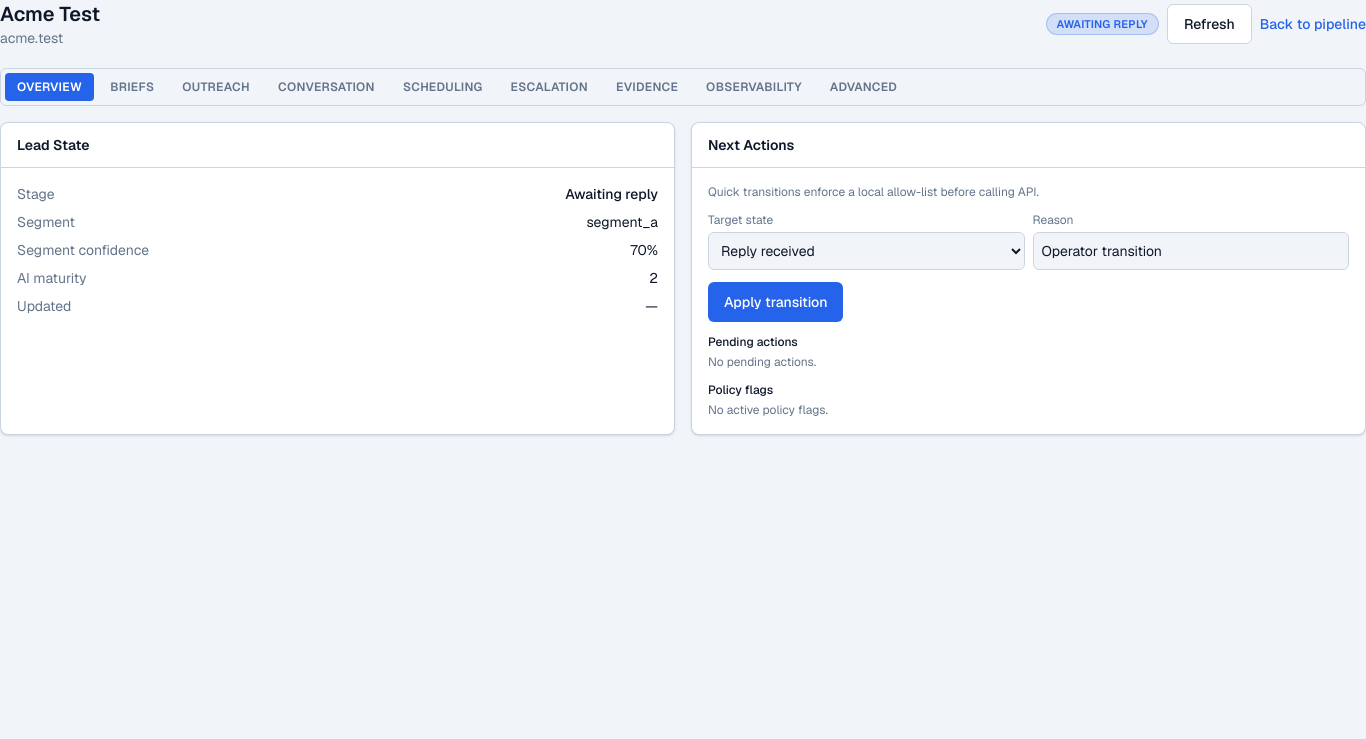
Test: LeadDetail › sends selected booking date and time from pickers
The width and height of the screenshot is (1366, 739).
Expected: the heading "Acme Test" is shown, [0,0,100,28]
Click the tab "Conversation" at (326,87), box [266,73,387,101]
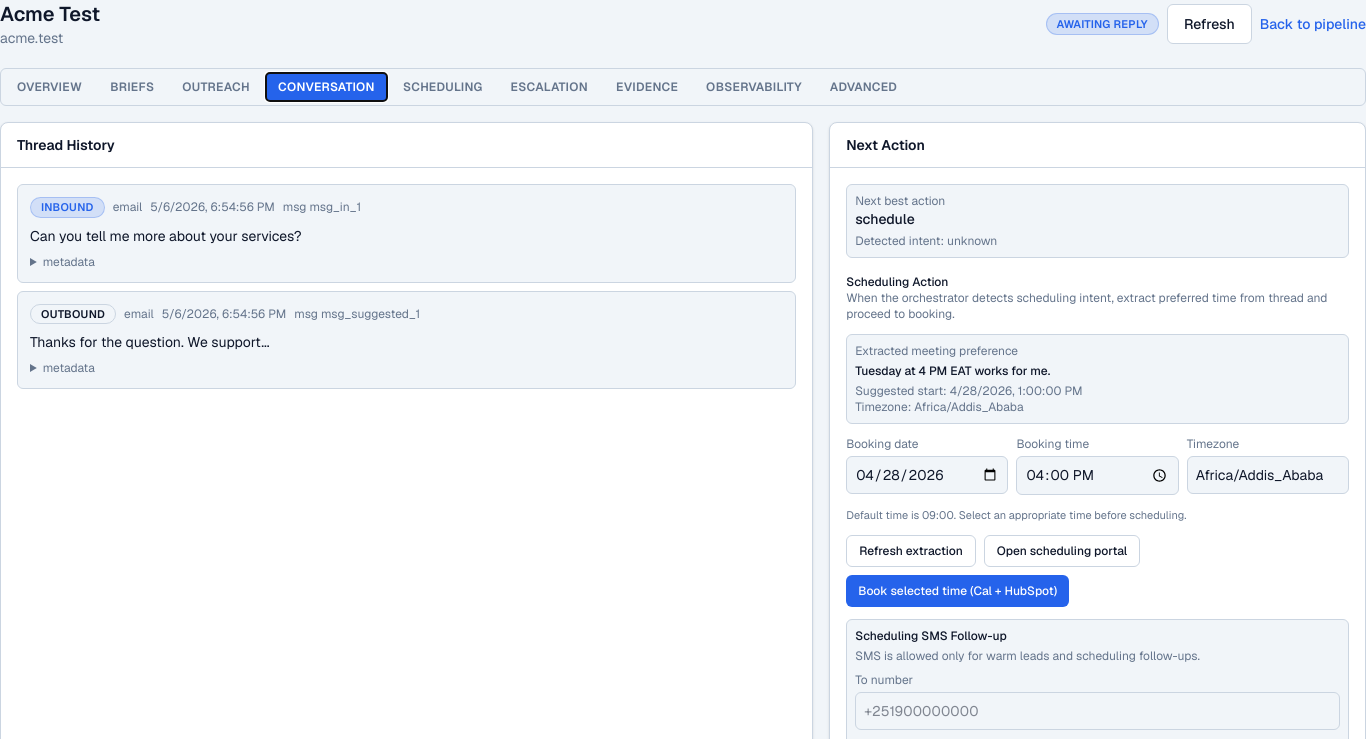
Type "2026-04-30" into the date field labelled "Booking date" at (927,475), box [846,456,1008,494]
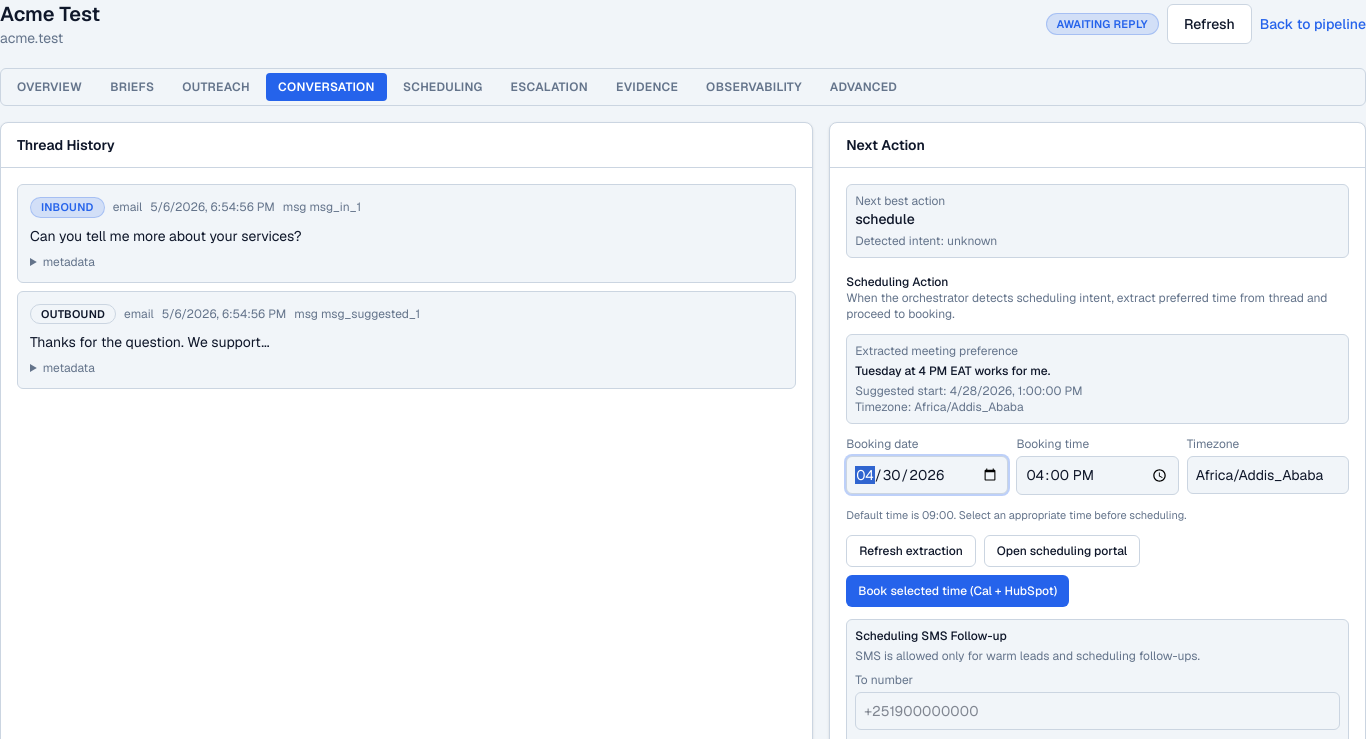
Replace the text in the time field labelled "Booking time" with "09:30" at (1098,475), box [1016,456,1179,495]
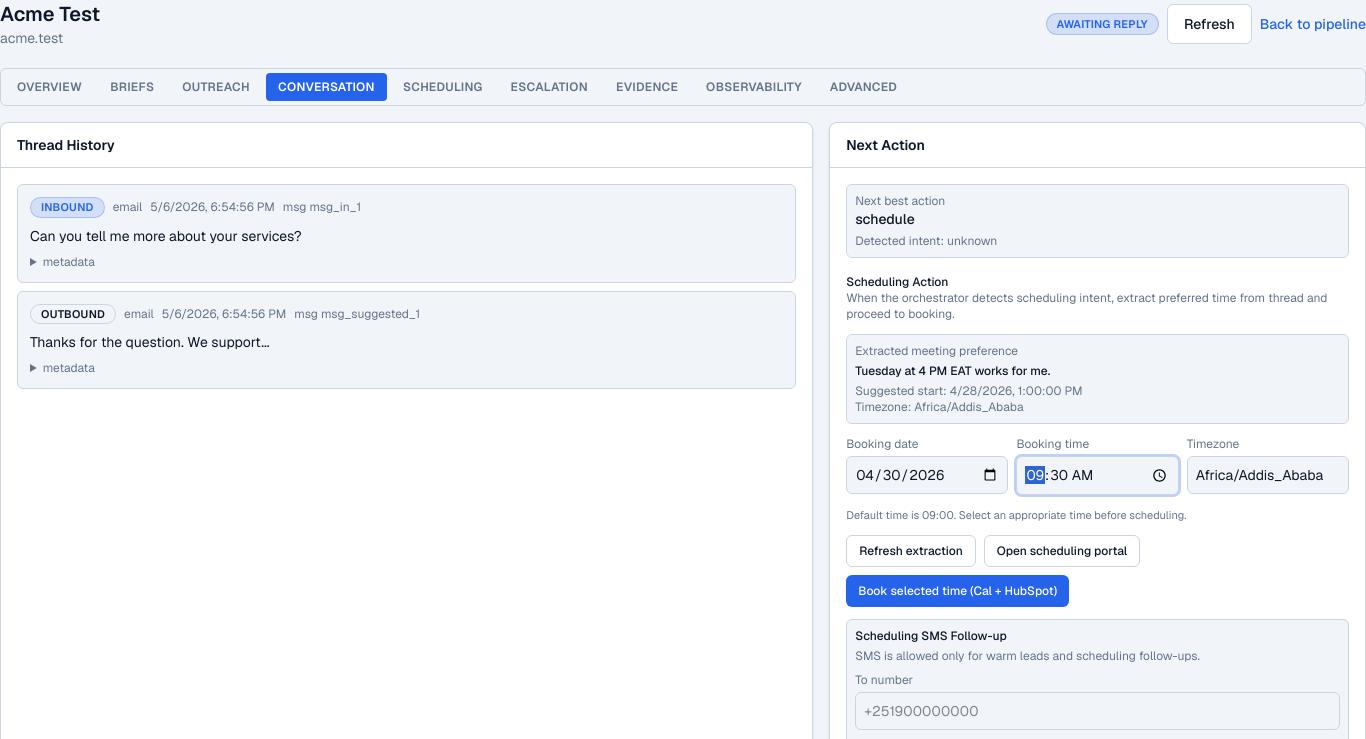
Click the button "Book selected time (Cal + HubSpot)" at (958,591), box [846,575,1069,607]
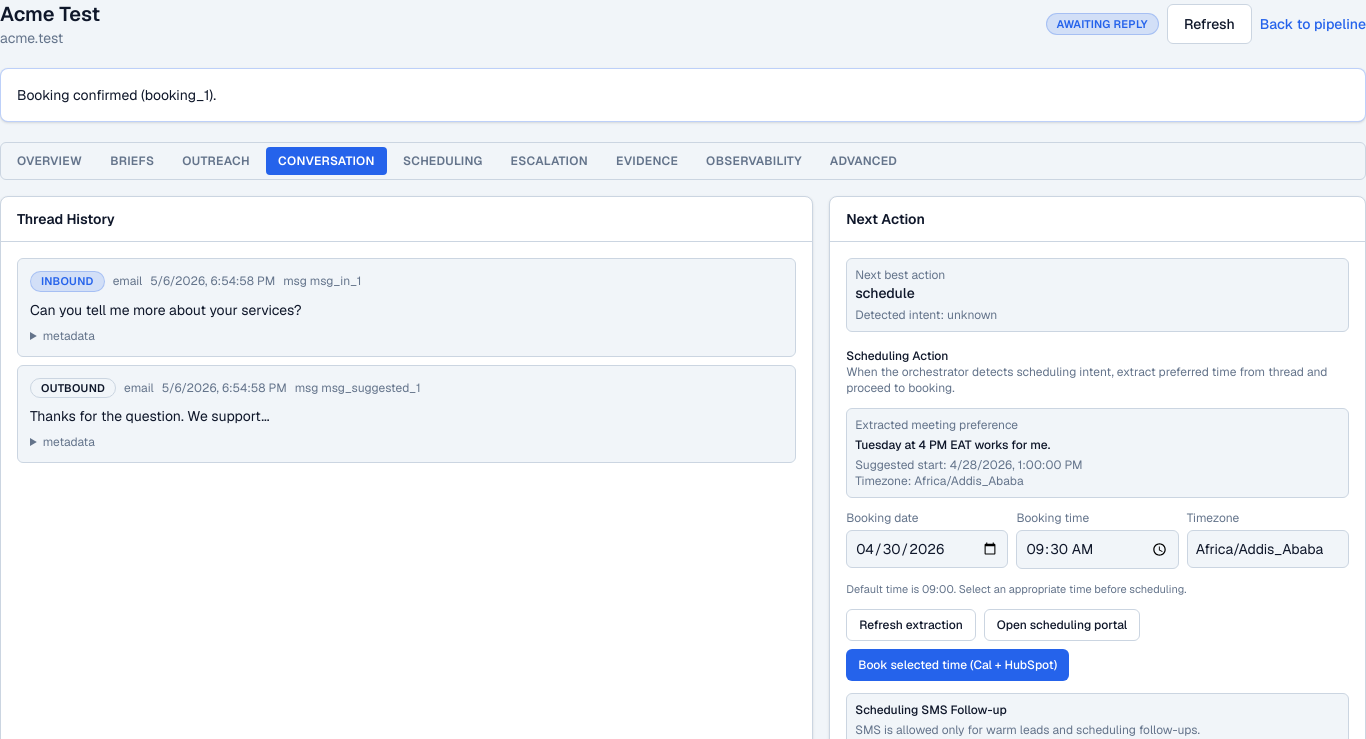
Expected: the text "Booking confirmed (booking_1)." is shown, [17,86,216,104]
